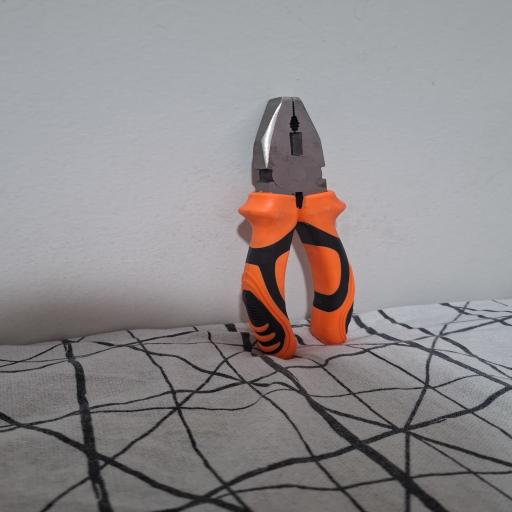alicate: (235, 93, 362, 360)
